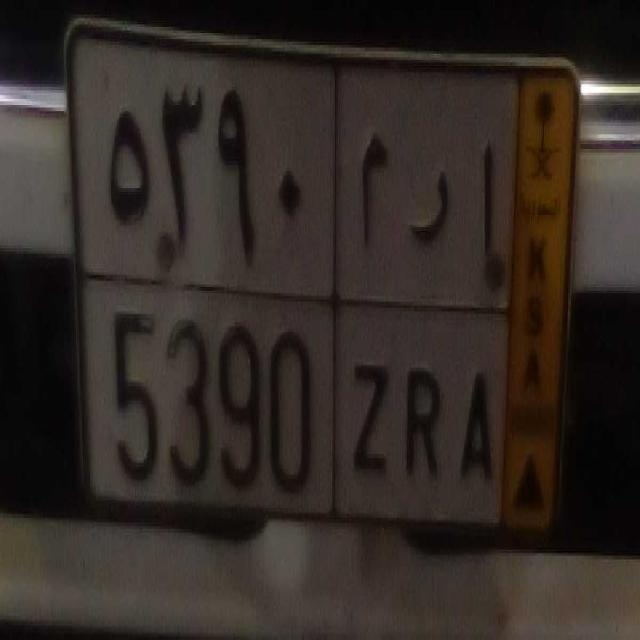license_plate: (77, 269, 506, 537)
